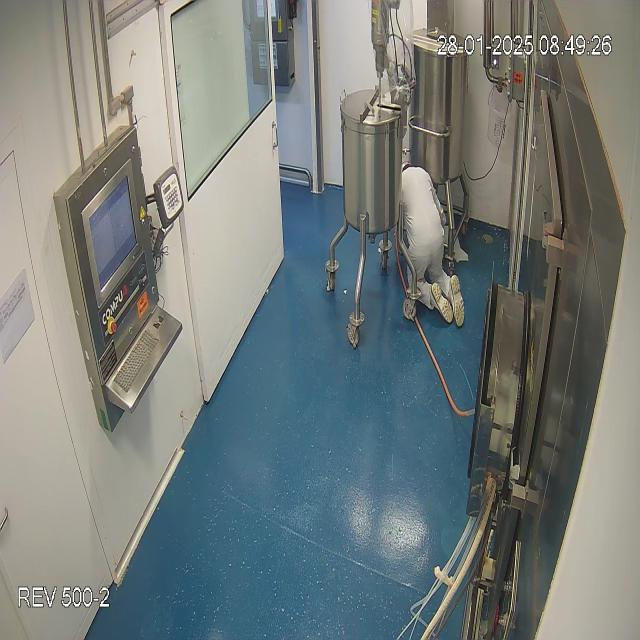bota: (429, 275, 466, 326)
pessoa: (399, 158, 465, 327)
